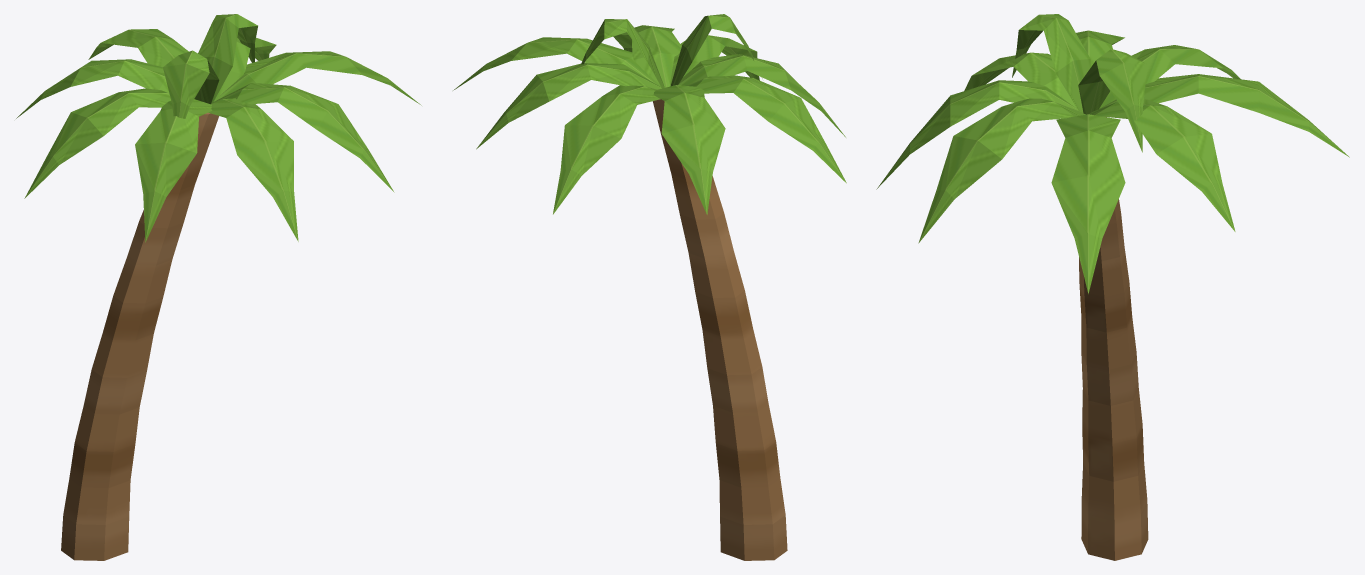
File: palm_small.glb
3 views of the same model, side by side, from view 1: azimuth 30°, elevation 25°; view 2: azimuth 150°, elevation 25°; view 3: azimuth 270°, elevation 25° (orthographic). The views are drawn at different scales.
Parts seen in each view (by area): view 1: beach_palm_small; view 2: beach_palm_small; view 3: beach_palm_small.
Boxes of the visible parts, x1=… form: beach_palm_small: x1=16, y1=14, x2=421, y2=560; beach_palm_small: x1=453, y1=14, x2=846, y2=560; beach_palm_small: x1=876, y1=14, x2=1349, y2=560.
Size of the model in its own units: 3.5 by 4.2 by 3.2.
Materials: 2 (2 with a texture image).
